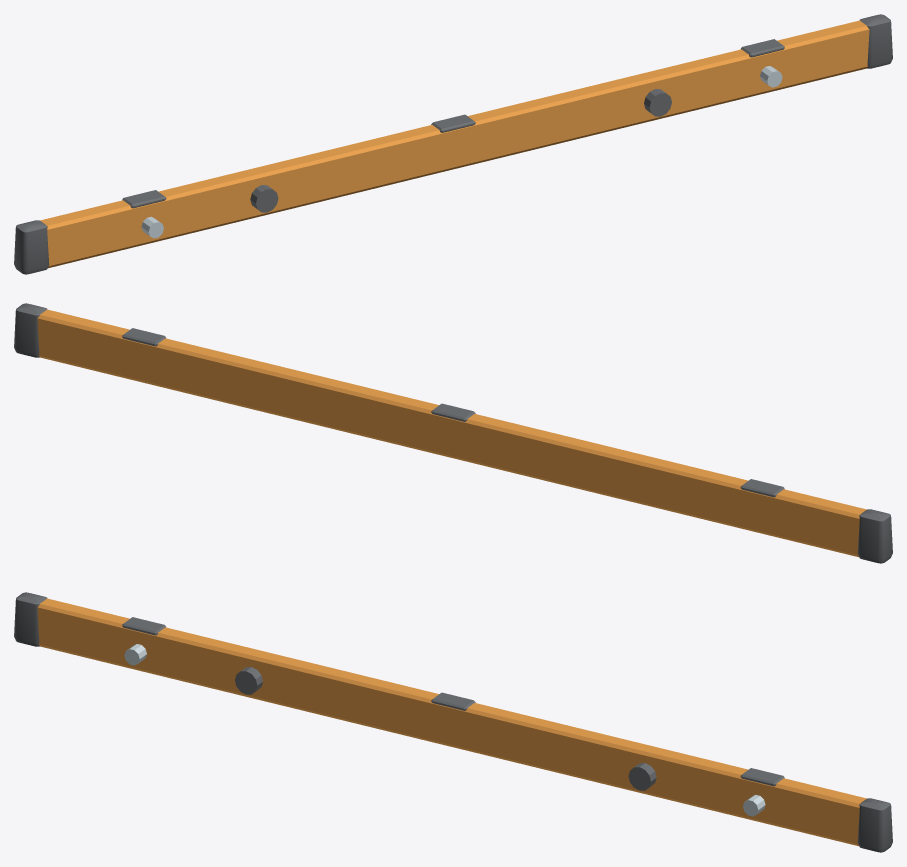
3 views of the same model, one above another, from view 1: azimuth 30°, elevation 25°; view 2: azimuth 150°, elevation 25°; view 3: azimuth 330°, elevation 25° (orthographic).
Parts seen in each view (by area): view 1: spirit-level; view 2: spirit-level; view 3: spirit-level.
Part boxes in pixels (bbox=[...]): spirit-level: bbox=[14, 14, 892, 274]; spirit-level: bbox=[14, 303, 892, 563]; spirit-level: bbox=[14, 592, 892, 852].
Size of the model in its own units: 1.24 by 0.0621 by 0.045.
